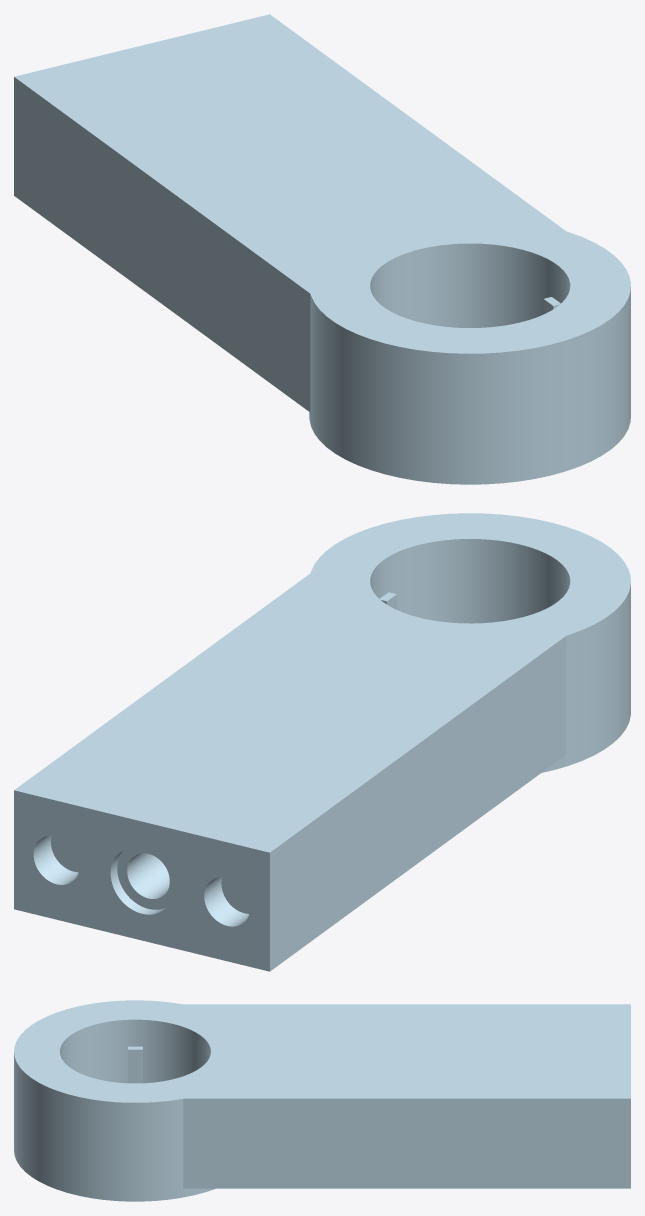
The model's file is HexagonPost.gltf.
3 views of the same model, one above another, from view 1: azimuth 30°, elevation 25°; view 2: azimuth 150°, elevation 25°; view 3: azimuth 270°, elevation 25° (orthographic). The views are drawn at different scales.
Parts seen in each view (by area): view 1: Part 1; view 2: Part 1; view 3: Part 1.
Part boxes in pixels (x1,y1,x2,y2): Part 1: [14, 14, 630, 484]; Part 1: [14, 513, 630, 971]; Part 1: [14, 1000, 630, 1201].
Size of the model in its own units: 0.0489 by 0.022 by 0.1245.
